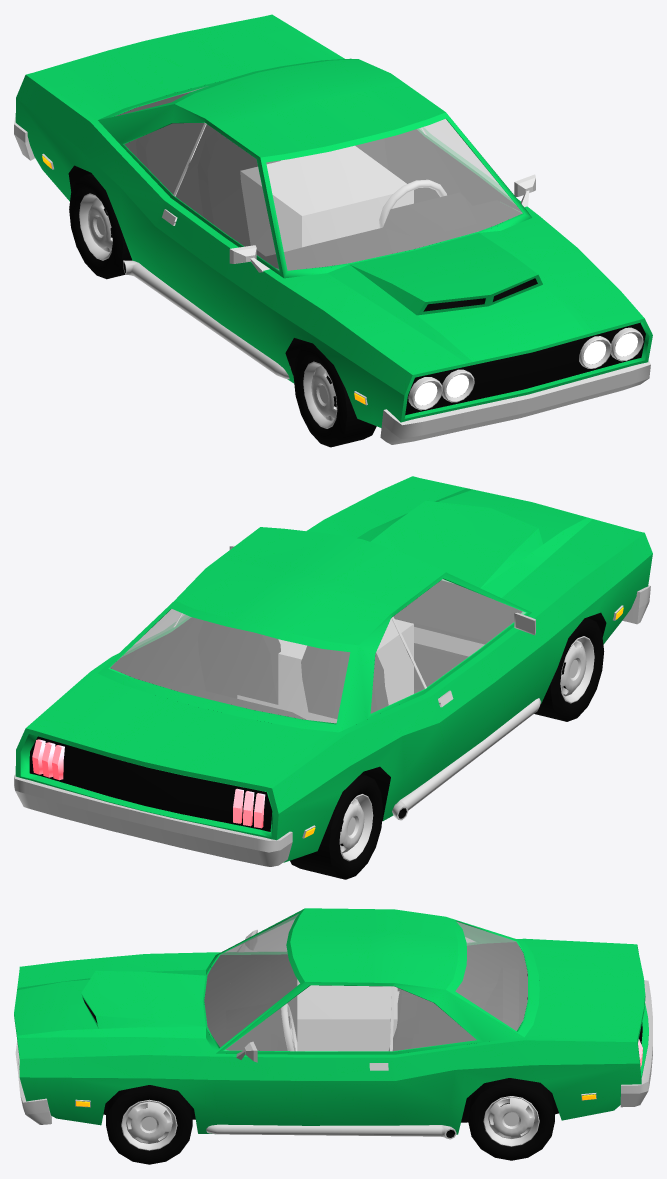
Rendered from car_green.glb.
The picture shows the model from 3 angles, top to bottom: view 1: azimuth 30°, elevation 25°; view 2: azimuth 150°, elevation 25°; view 3: azimuth 270°, elevation 25°; orthographic projection. The views are drawn at different scales.
Parts seen in each view (by area): view 1: Object_4, Cube, Object_6, Object_13, Object_8; view 2: Object_4, Cube, Object_6, Object_13, Object_7; view 3: Object_4, Cube, Object_6, Object_13.
Part boxes in pixels (x1,y1,x2,y2): Object_4: (15, 14, 652, 427); Cube: (68, 92, 645, 447); Object_6: (117, 86, 522, 270); Object_13: (14, 117, 650, 444); Object_8: (414, 333, 637, 405); Object_4: (15, 476, 652, 862); Cube: (29, 580, 606, 879); Object_6: (110, 579, 525, 723); Object_13: (14, 545, 650, 866); Object_7: (32, 739, 265, 828); Object_4: (14, 908, 648, 1134); Cube: (83, 942, 642, 1164); Object_6: (204, 914, 527, 1051); Object_13: (15, 929, 652, 1150).
Size of the model in its own units: 5.46 by 3.6 by 12.16.
Materials: 7 (7 with a texture image).
